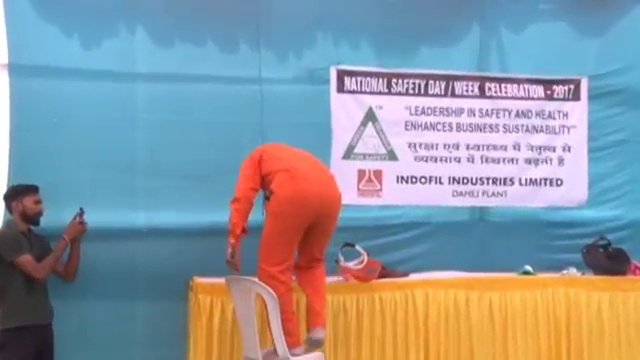helmet_off: (3, 183, 44, 229)
person: (222, 140, 344, 351), (1, 181, 86, 360)
